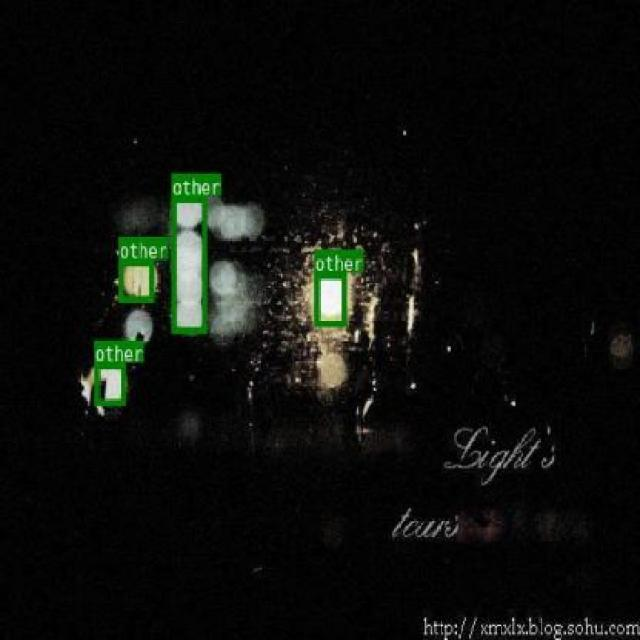other: (171, 195, 206, 332), (312, 272, 346, 326), (118, 258, 154, 300), (92, 362, 126, 404)
